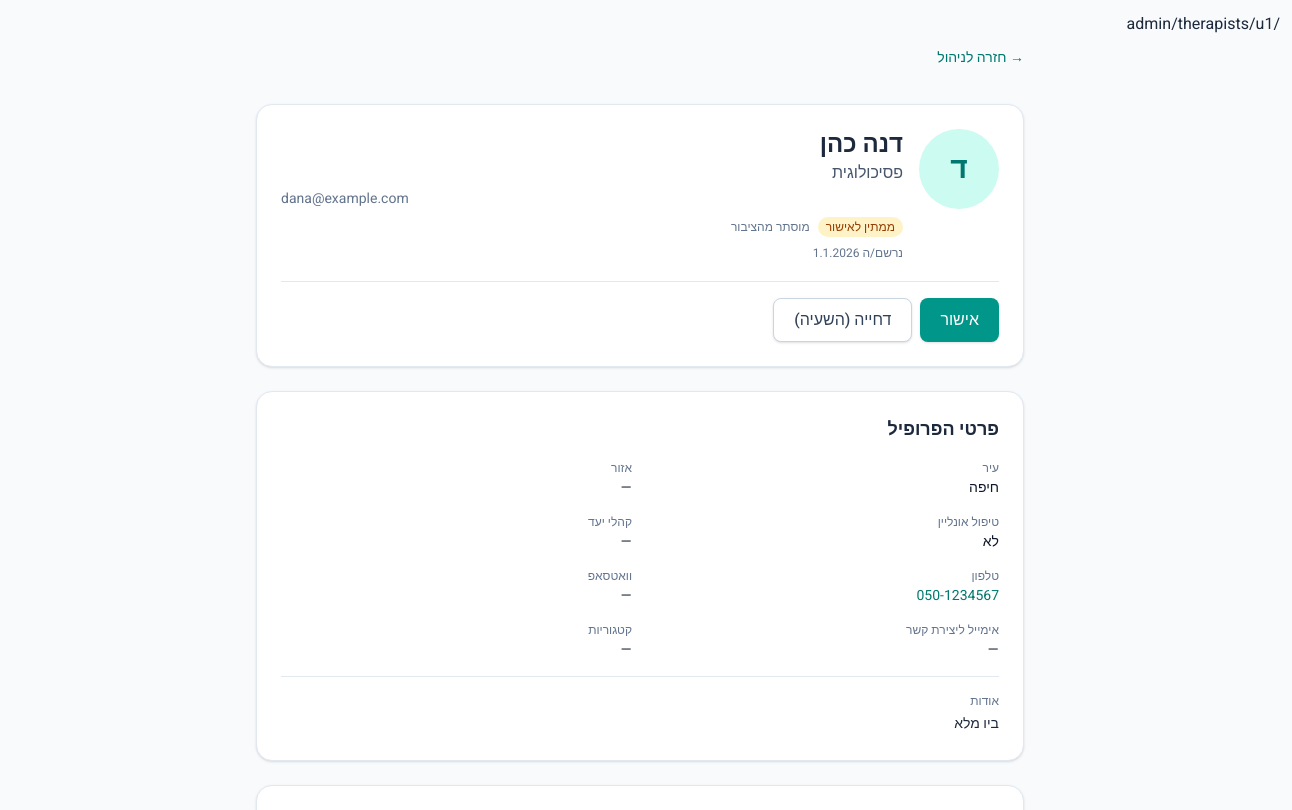
Test: AdminTherapistPage: approve, suspend, reactivate › shows a Hebrew error and keeps the old state when the server refuses
Expected: the heading "דנה כהן" is shown, [820,127,903,162]
Click the button "אישור" at (960, 320), box [920,298,999,342]
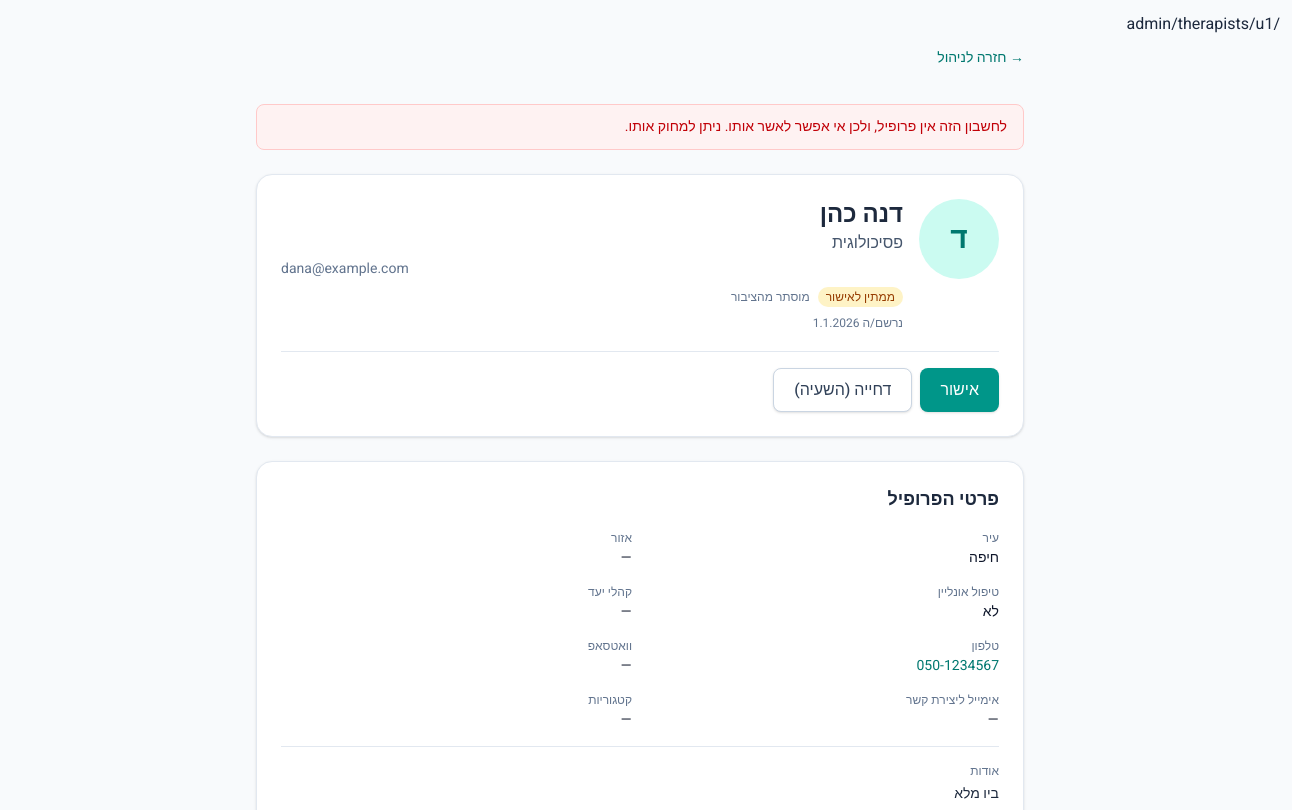
Expected: the text "ממתין לאישור" is shown, [818,287,903,307]
Expected: the message shows "אין פרופיל", [625,116,1007,137]
